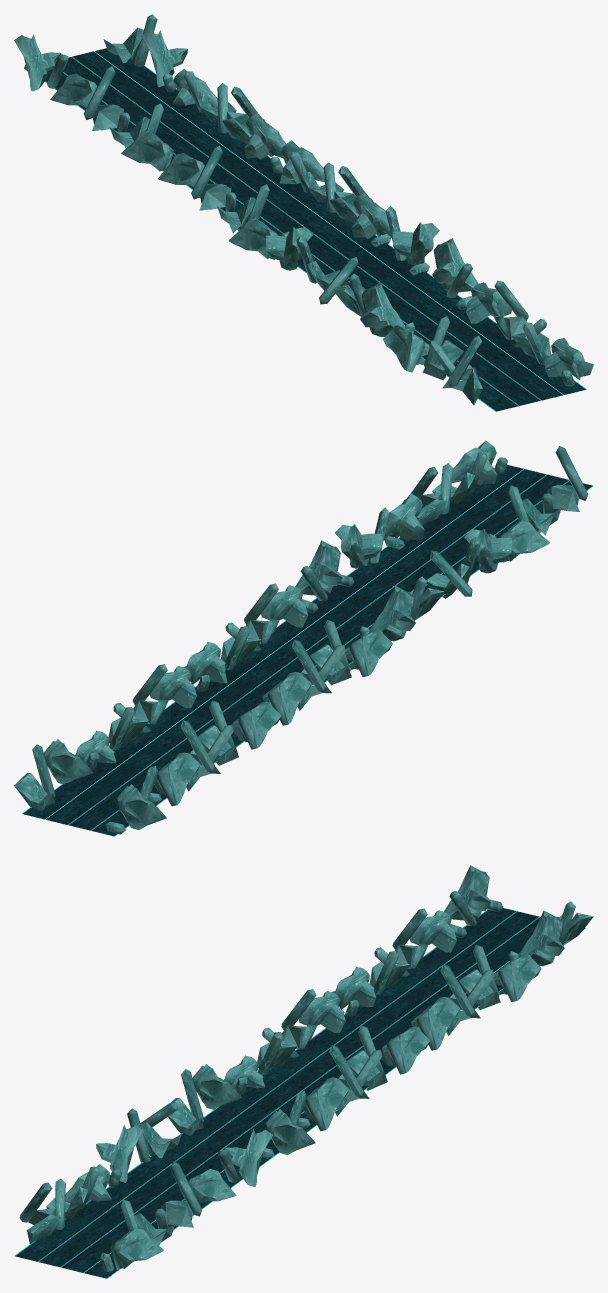
The model's file is piste3.FBX.
3 renders of one model, top to bottom at view 1: azimuth 30°, elevation 25°; view 2: azimuth 150°, elevation 25°; view 3: azimuth 330°, elevation 25°, orthographic.
Visible parts, largest first — view 1: cristaux, Objet001; view 2: cristaux, Objet001; view 3: cristaux, Objet001.
Part boxes in pixels (bbox=[...]): cristaux: bbox=[14, 14, 593, 405]; Objet001: bbox=[44, 48, 586, 411]; cristaux: bbox=[14, 440, 588, 834]; Objet001: bbox=[22, 464, 593, 836]; cristaux: bbox=[19, 865, 593, 1271]; Objet001: bbox=[14, 907, 585, 1278].
Size of the model in its own units: 1461 by 664 by 8258.
